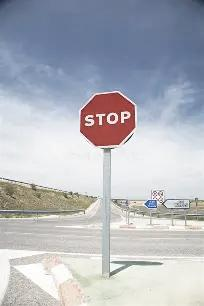Stop: (78, 92, 138, 146)
